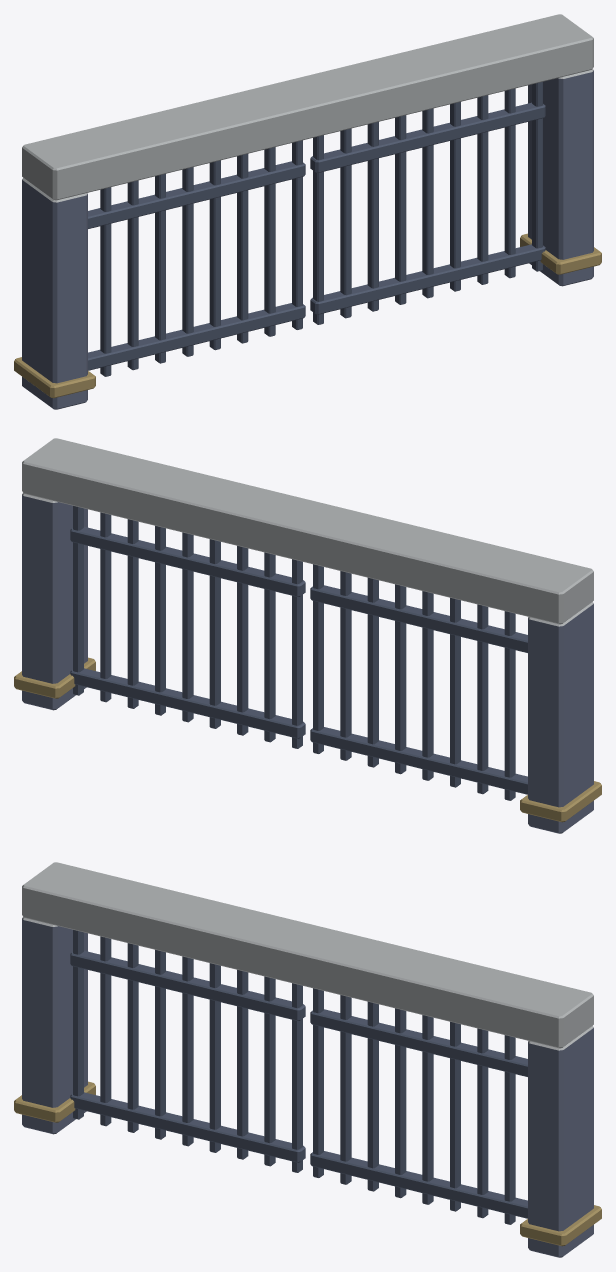
File: gate-wide.glb
3 renders of one model, top to bottom at view 1: azimuth 30°, elevation 25°; view 2: azimuth 150°, elevation 25°; view 3: azimuth 330°, elevation 25°, orthographic.
Parts seen in each view (by area): view 1: gate-wide__body, gate-wide__leaf-right, gate-wide__leaf-left; view 2: gate-wide__body, gate-wide__leaf-right, gate-wide__leaf-left; view 3: gate-wide__body, gate-wide__leaf-left, gate-wide__leaf-right.
Boxes of the visible parts, x1,y1,x2,y2 form: gate-wide__body: (14,14,601,409); gate-wide__leaf-right: (310,82,545,324); gate-wide__leaf-left: (88,140,305,376); gate-wide__body: (14,438,601,833); gate-wide__leaf-right: (70,506,305,748); gate-wide__leaf-left: (310,564,527,800); gate-wide__body: (14,862,601,1257); gate-wide__leaf-left: (70,930,305,1172); gate-wide__leaf-right: (310,988,527,1224).
Size of the model in its own units: 4.69 by 1.96 by 0.58.
